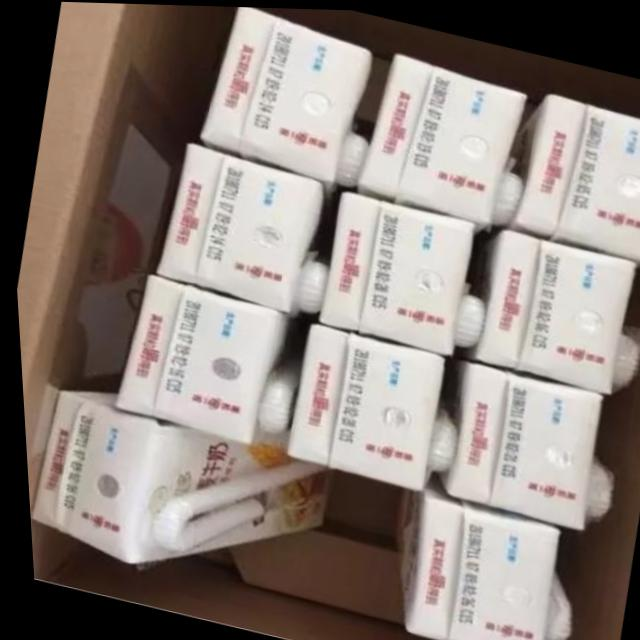box: (15, 1, 640, 640), (24, 382, 326, 565), (193, 6, 378, 184), (112, 270, 286, 446), (457, 225, 635, 392), (356, 50, 527, 222), (431, 355, 601, 528), (150, 140, 322, 310), (275, 323, 448, 490), (313, 187, 473, 352), (383, 487, 555, 640), (504, 91, 640, 261)
